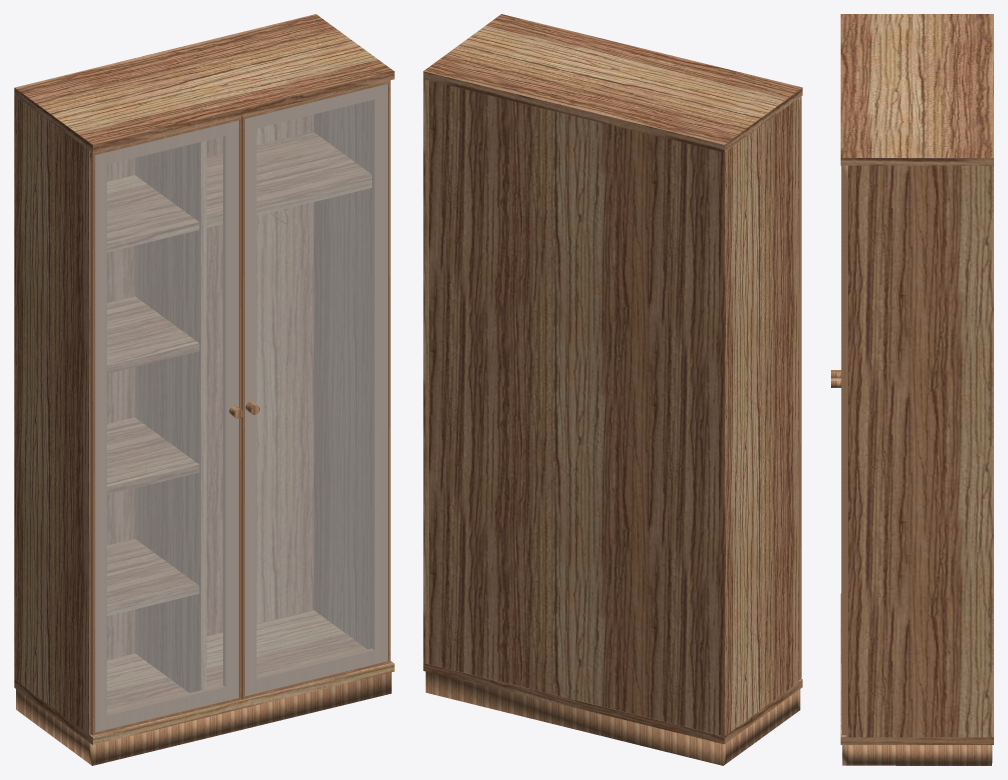
Rendered from baseline_5OH_45x100_coatcloset_satinato_aluframe_finala.fbx.
The picture shows the model from 3 angles, left to right: view 1: azimuth 30°, elevation 25°; view 2: azimuth 150°, elevation 25°; view 3: azimuth 270°, elevation 25°; orthographic projection. The views are drawn at different scales.
Parts seen in each view (by area): view 1: drewno_mesh, szklo_mesh (×2), plastic_mesh (×2), drewno2_mesh, metal_mesh; view 2: drewno_mesh, metal_mesh, plastic_mesh; view 3: drewno_mesh, plastic_mesh, metal_mesh.
Boxes of the visible parts, x1=… form: drewno_mesh: x1=14, y1=14, x2=394, y2=744; szklo_mesh (×2): x1=95, y1=84, x2=387, y2=731; plastic_mesh (×2): x1=89, y1=80, x2=390, y2=735; drewno2_mesh: x1=107, y1=132, x2=371, y2=615; metal_mesh: x1=16, y1=208, x2=391, y2=765; drewno_mesh: x1=423, y1=14, x2=802, y2=744; metal_mesh: x1=425, y1=671, x2=800, y2=765; plastic_mesh: x1=799, y1=96, x2=801, y2=679; drewno_mesh: x1=840, y1=14, x2=993, y2=744; plastic_mesh: x1=841, y1=165, x2=847, y2=734; metal_mesh: x1=842, y1=745, x2=992, y2=765.
Bounding box in the file's own units: 254 × 501 × 121.
